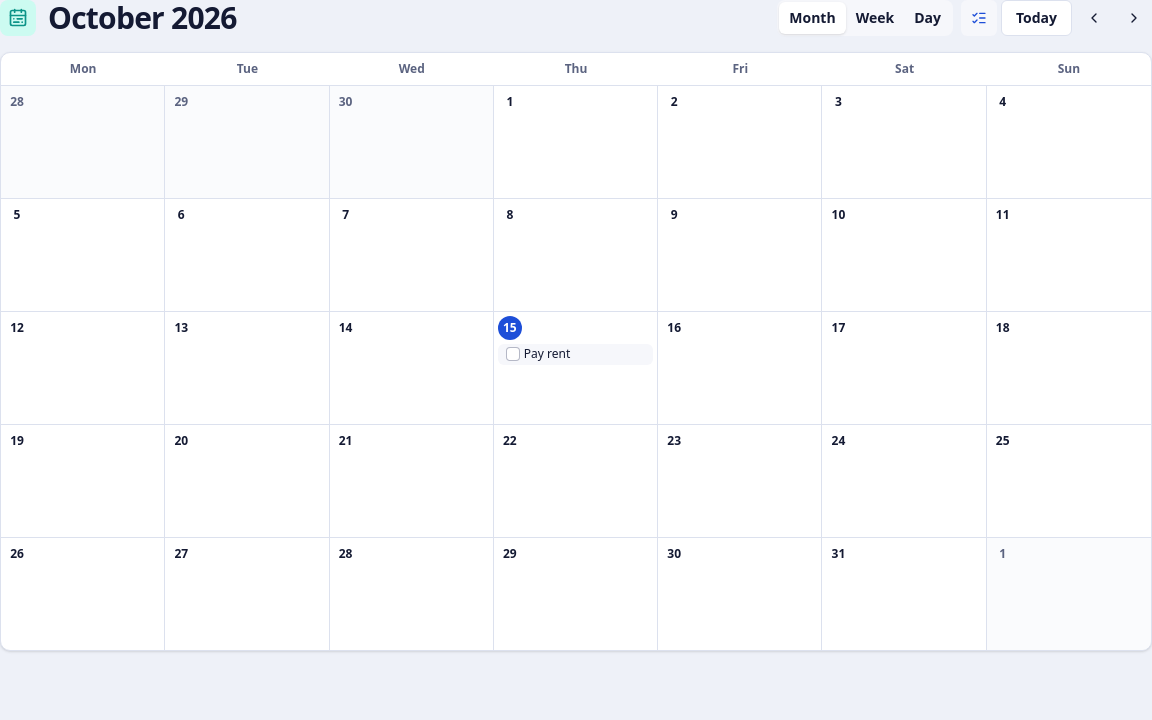
CalendarView drag to reschedule in Month mode › puts a Task back and says why when its new date can't be saved
Expected: the text "Pay rent" is shown, [524,345,570,362]
Press the mouse on the button "Pay rent" at (586, 354), box [524,346,649,362]
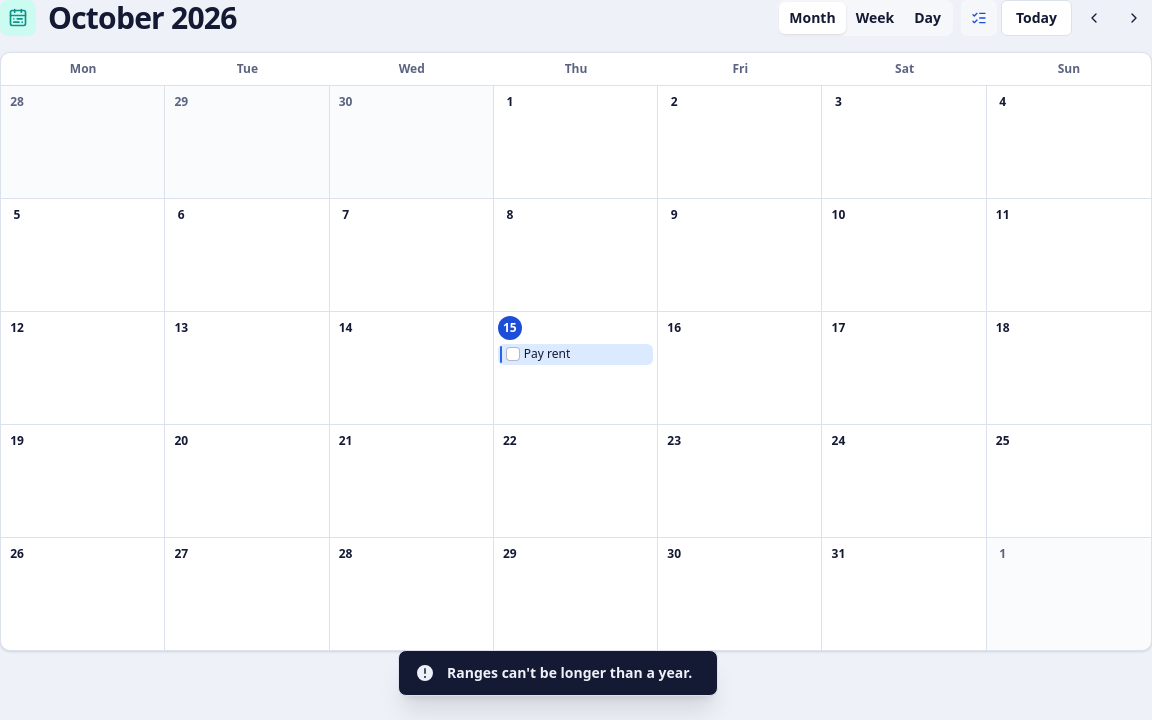
Expected: the text "Ranges can't be longer than a year." is shown, [447,663,692,683]
